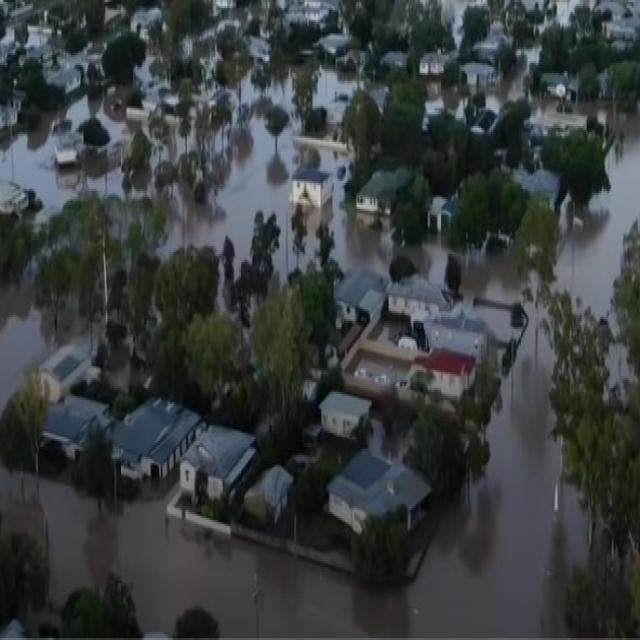flood: (0, 301, 601, 639), (161, 120, 319, 274), (311, 147, 453, 280), (562, 114, 640, 314), (0, 95, 127, 210), (0, 277, 60, 404), (428, 45, 540, 110), (459, 251, 525, 301), (313, 66, 361, 122), (557, 0, 640, 28), (135, 54, 170, 110), (243, 76, 293, 114), (442, 0, 470, 44), (87, 168, 124, 196), (574, 103, 599, 114), (539, 98, 561, 110)
house: (328, 448, 431, 566), (114, 391, 204, 484), (184, 420, 256, 502), (46, 396, 106, 466), (419, 350, 478, 414), (36, 344, 90, 404), (388, 272, 451, 323), (319, 388, 374, 446), (336, 270, 390, 324), (248, 468, 296, 520), (420, 314, 487, 350), (356, 170, 403, 216), (318, 31, 356, 74), (291, 168, 333, 204), (2, 76, 26, 138), (460, 58, 498, 96), (1, 184, 34, 214), (54, 134, 80, 164), (420, 50, 446, 75)
